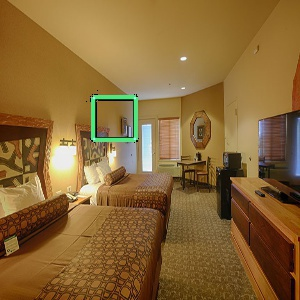square: (89, 92, 141, 144)
